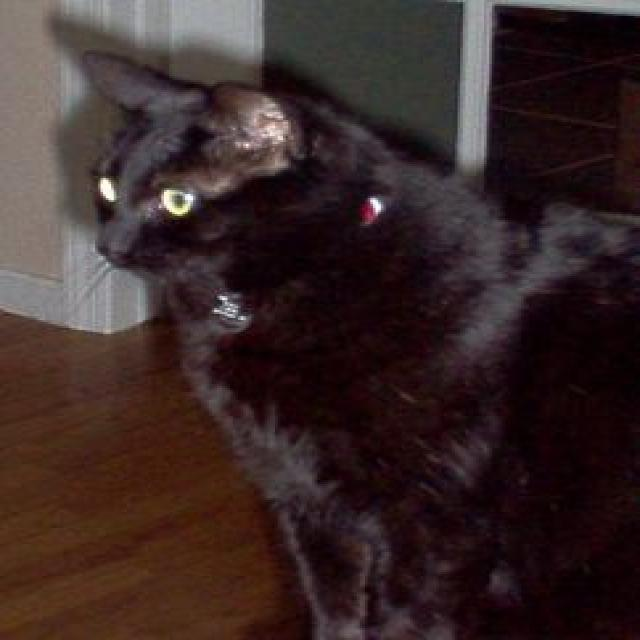Bombay: (73, 54, 392, 303)
